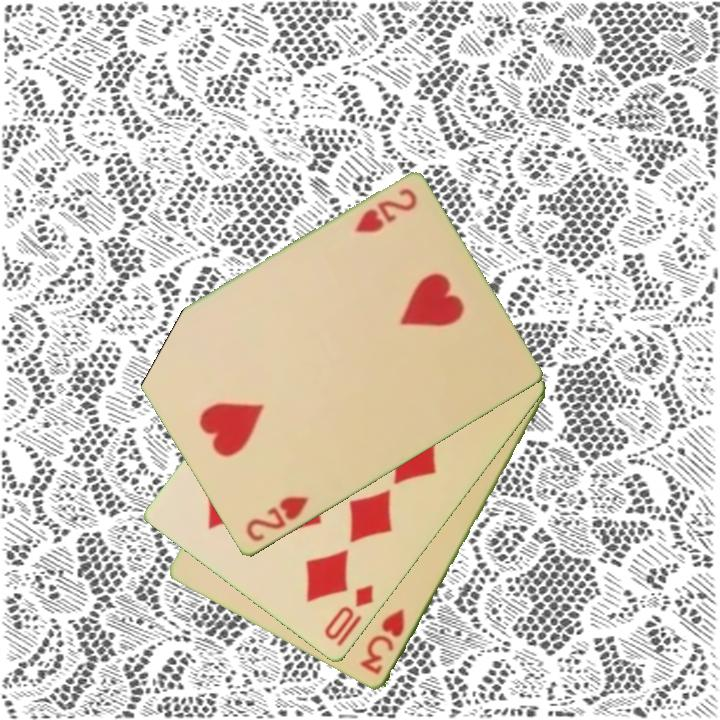10d: (320, 581, 377, 650)
2h: (242, 493, 311, 545), (351, 185, 420, 237)
3h: (357, 605, 408, 678)
